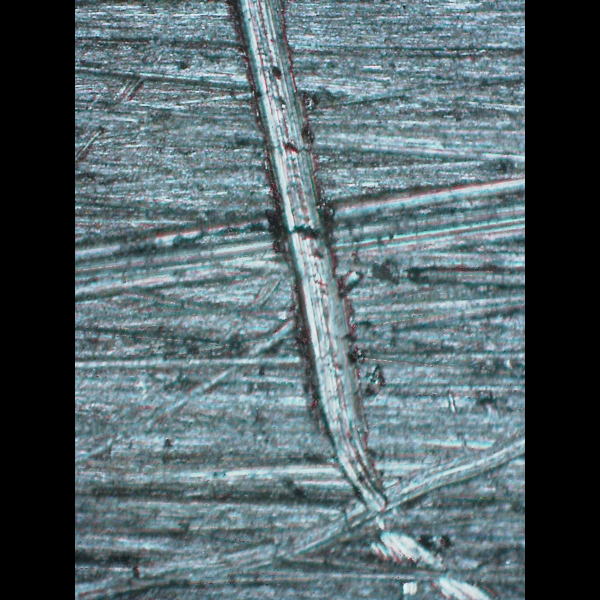d: (223, 0, 493, 597)
